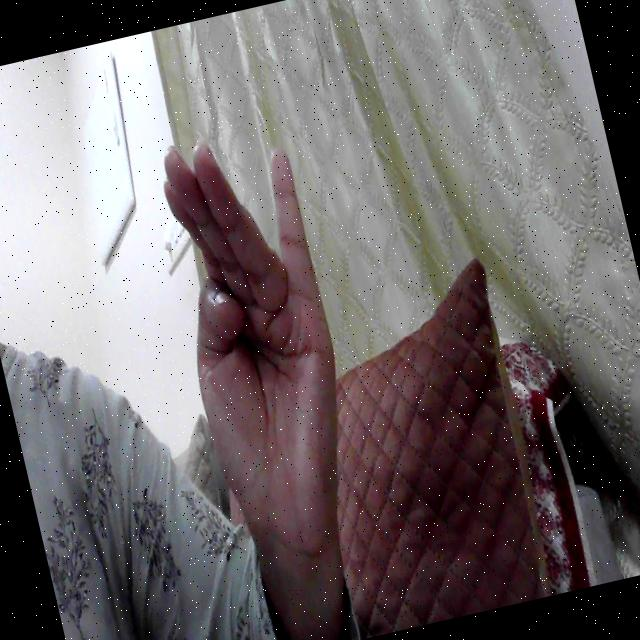Chatura: (122, 85, 402, 572)
